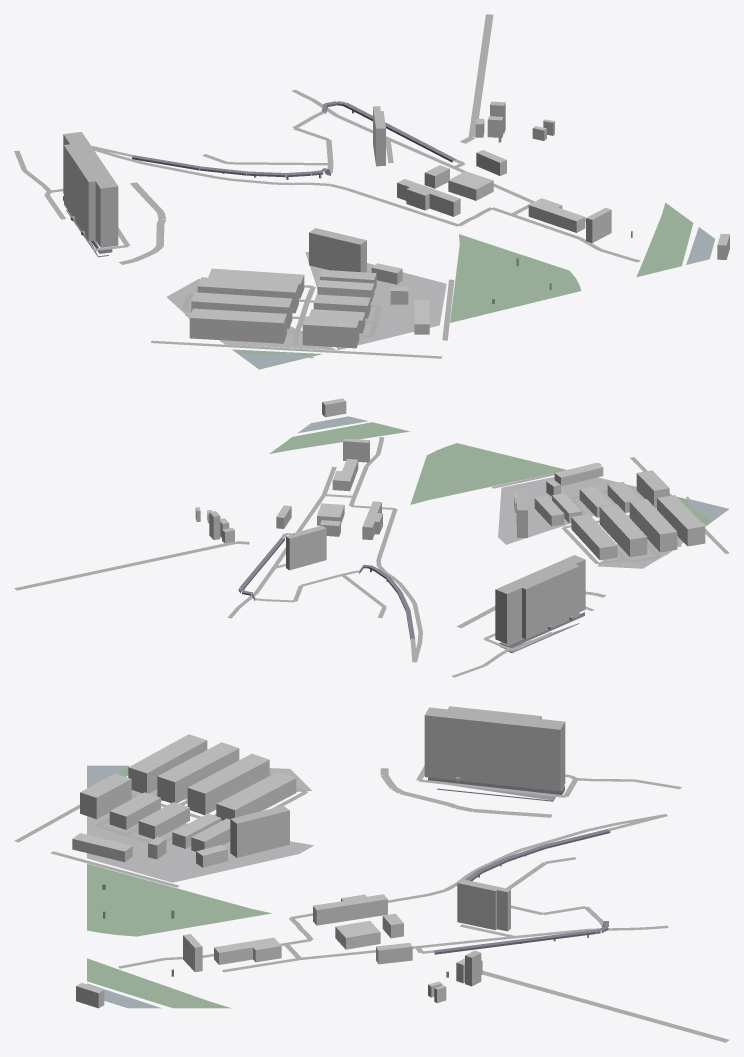
The picture shows the model from 3 angles, top to bottom: view 1: azimuth 30°, elevation 25°; view 2: azimuth 150°, elevation 25°; view 3: azimuth 270°, elevation 25°; orthographic projection. The views are drawn at different scales.
Size of the model in its own units: 626 by 73.27 by 625.
